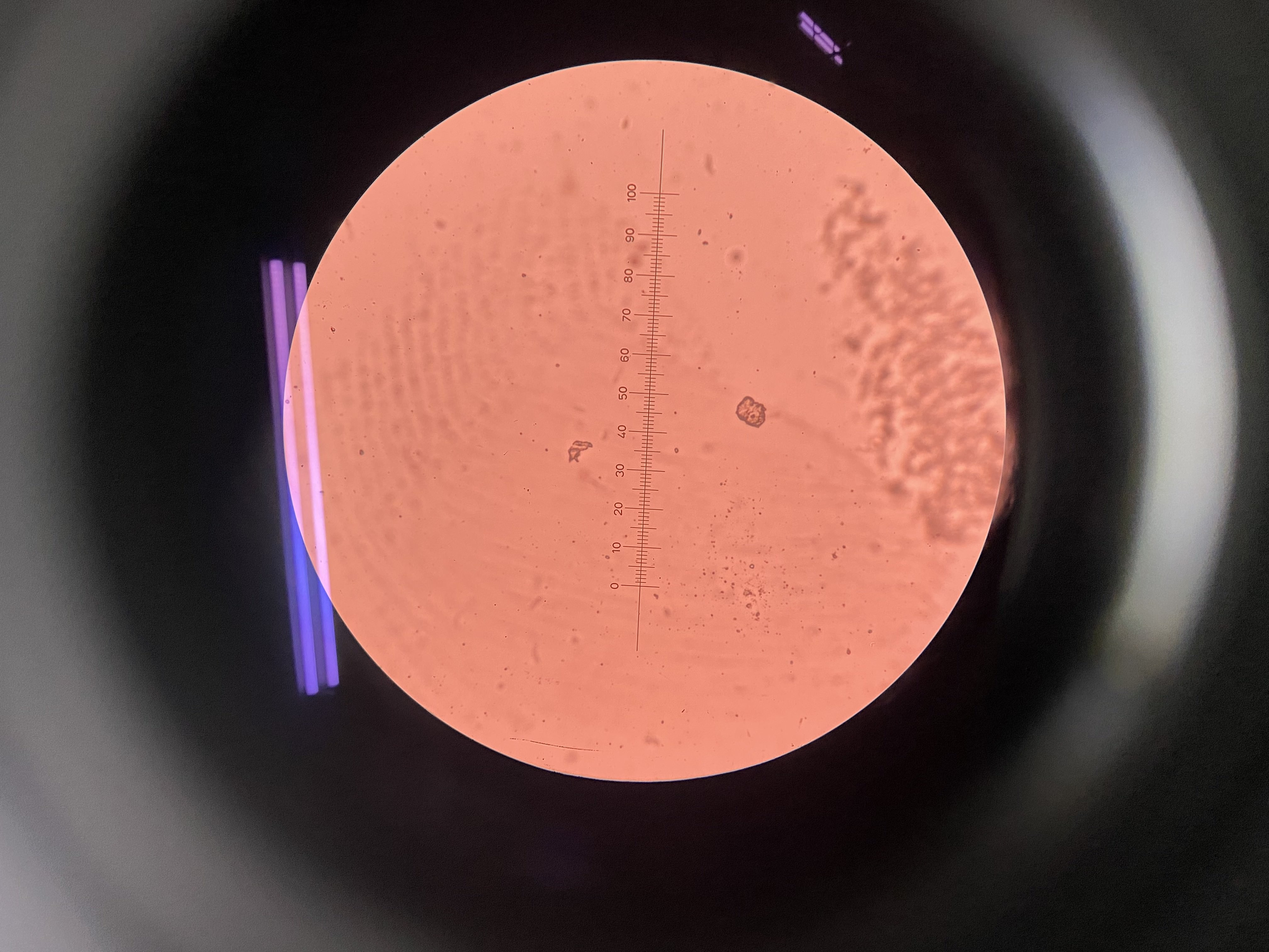microplastic: (811, 170, 1016, 534), (732, 392, 771, 431), (560, 438, 603, 467), (726, 249, 751, 265)
